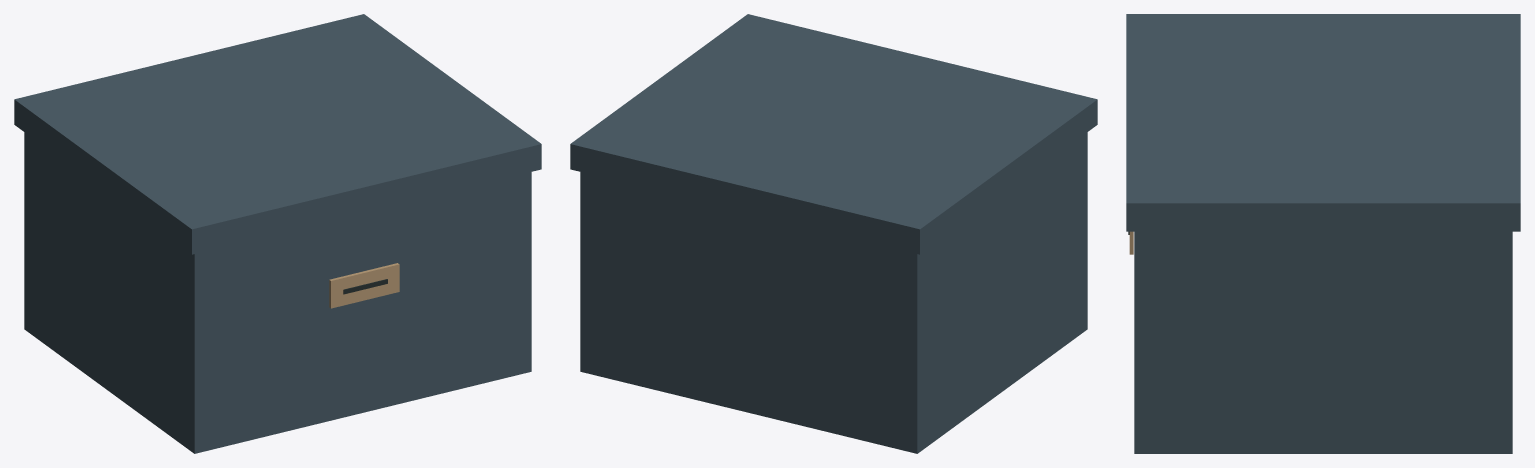
File: box-ink-lightweight-466de7d22f.glb
3 renders of one model, left to right at view 1: azimuth 30°, elevation 25°; view 2: azimuth 150°, elevation 25°; view 3: azimuth 270°, elevation 25°, orthographic. The views are drawn at different scales.
Visible parts, largest first — view 1: ink, oak; view 2: ink; view 3: ink.
Boxes of the visible parts, box(x1,y1,x2,y2) form: ink: box(14, 14, 541, 453); oak: box(329, 263, 399, 308); ink: box(570, 14, 1097, 453); ink: box(1126, 14, 1520, 453).
Size of the model in its own units: 0.332 by 0.2075 by 0.292.
